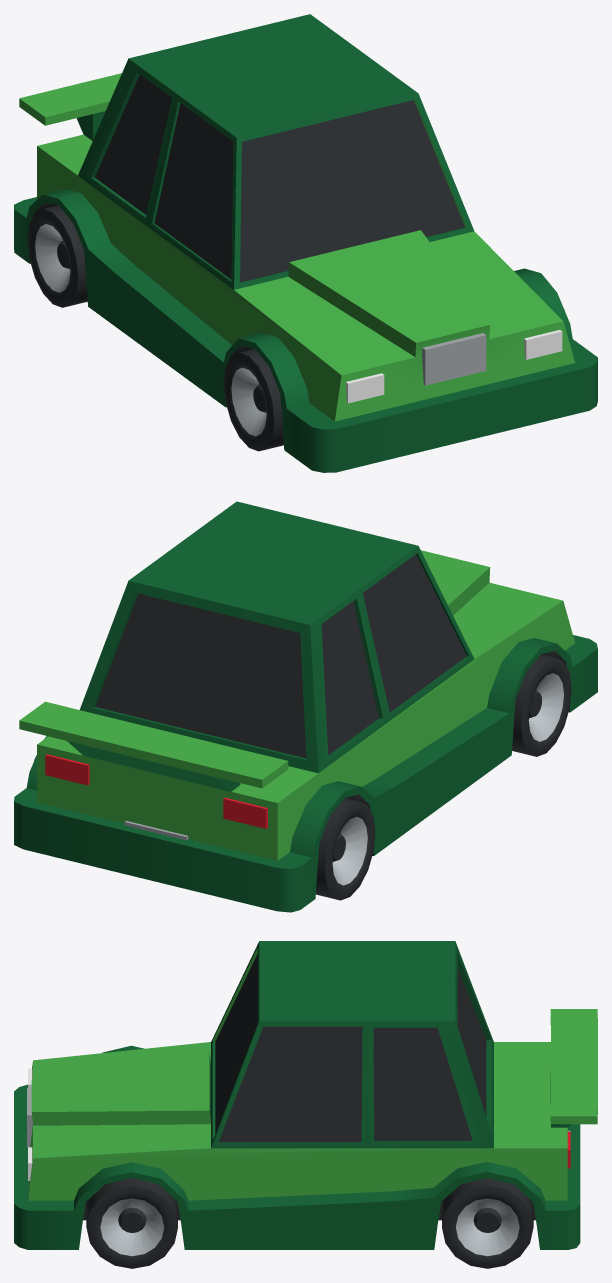
Rendered from car.fbx.
3 views of the same model, one above another, from view 1: azimuth 30°, elevation 25°; view 2: azimuth 150°, elevation 25°; view 3: azimuth 270°, elevation 25° (orthographic). The views are drawn at different scales.
Visible parts, largest first — view 1: Car4, Car7Wheel4.001, Car7Wheel2.001; view 2: Car4, Car7Wheel2.001, Car7Wheel4.001; view 3: Car4, Car7Wheel1.001, Car7Wheel3.001.
Part boxes in pixels (x1=…): Car4: x1=14, y1=14, x2=597, y2=472; Car7Wheel4.001: x1=27, y1=205, x2=87, y2=307; Car7Wheel2.001: x1=223, y1=349, x2=283, y2=451; Car4: x1=14, y1=501, x2=597, y2=912; Car7Wheel2.001: x1=512, y1=654, x2=571, y2=756; Car7Wheel4.001: x1=316, y1=798, x2=375, y2=900; Car4: x1=14, y1=941, x2=597, y2=1249; Car7Wheel1.001: x1=86, y1=1178, x2=177, y2=1268; Car7Wheel3.001: x1=442, y1=1178, x2=533, y2=1268.
Bounding box in the file's own units: 299 × 232 × 555.
Materials: 1 (1 with a texture image).
